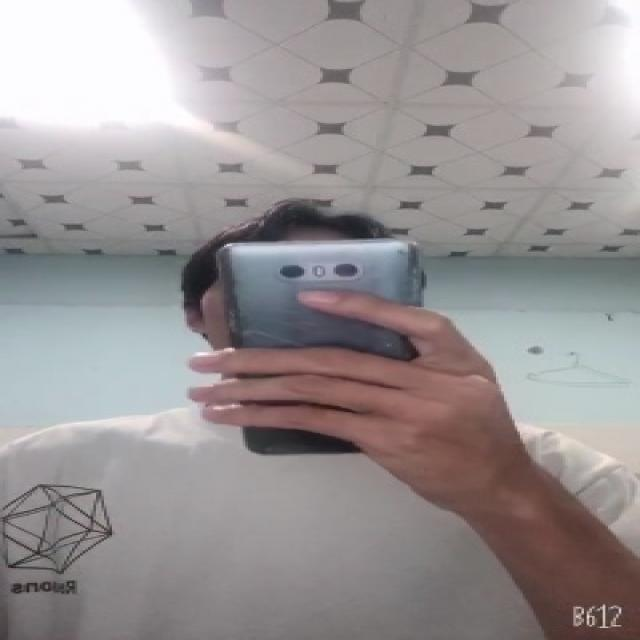Phone: (216, 238, 427, 459)
